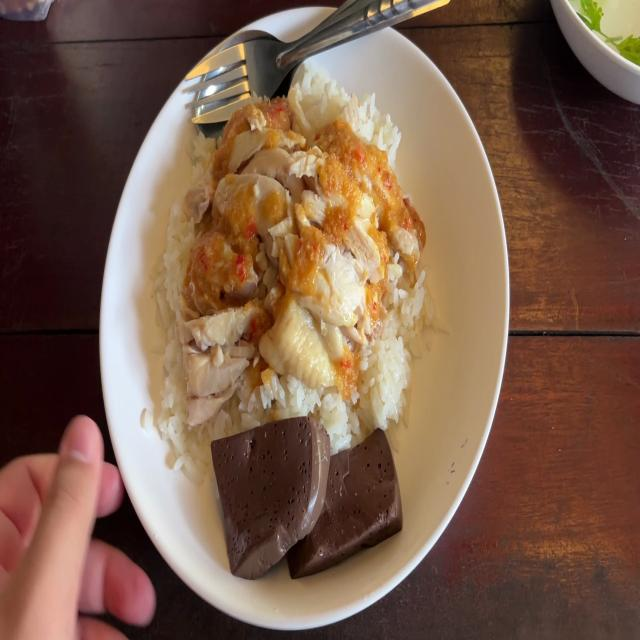chicken_rice: (210, 108, 372, 386)
noodle: (210, 416, 324, 568), (290, 430, 402, 555)
